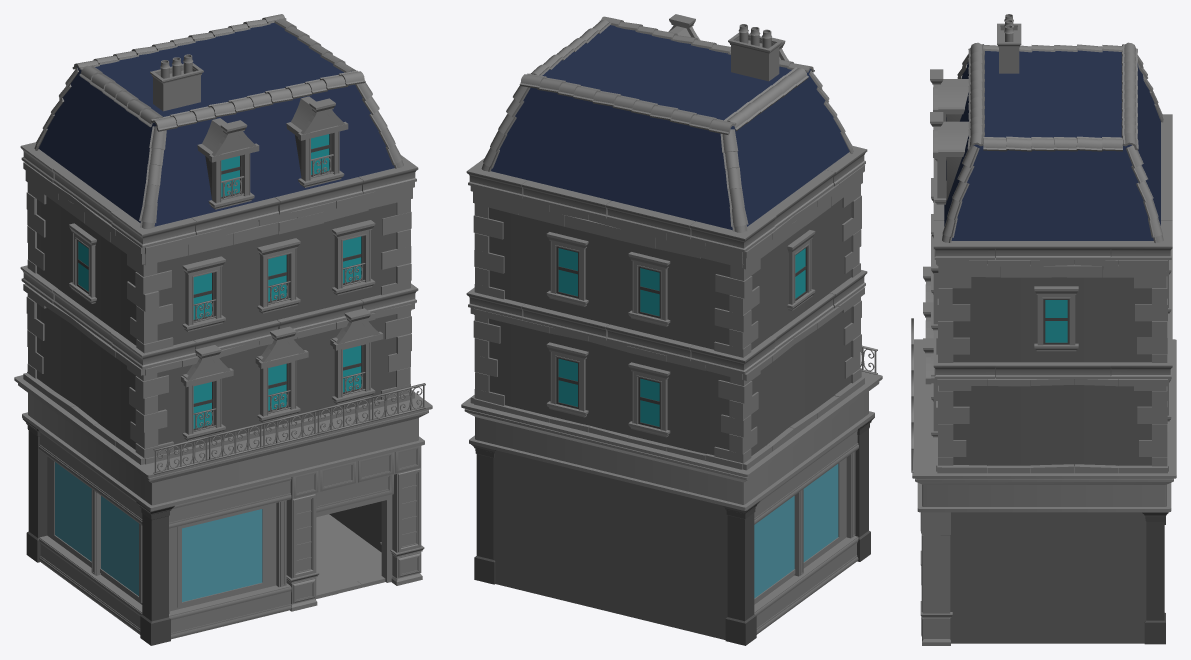
Rendered from SM_building_shop_02.fbx.
3 views of the same model, side by side, from view 1: azimuth 30°, elevation 25°; view 2: azimuth 150°, elevation 25°; view 3: azimuth 270°, elevation 25° (orthographic). The views are drawn at different scales.
Visible parts, largest first — view 1: Object521; view 2: Object521; view 3: Object521.
Boxes of the visible parts, x1,y1,x2,y2 form: Object521: [14, 14, 432, 645]; Object521: [461, 14, 882, 645]; Object521: [911, 14, 1176, 645].
Bounding box in the file's own units: 353 × 635 × 289.
